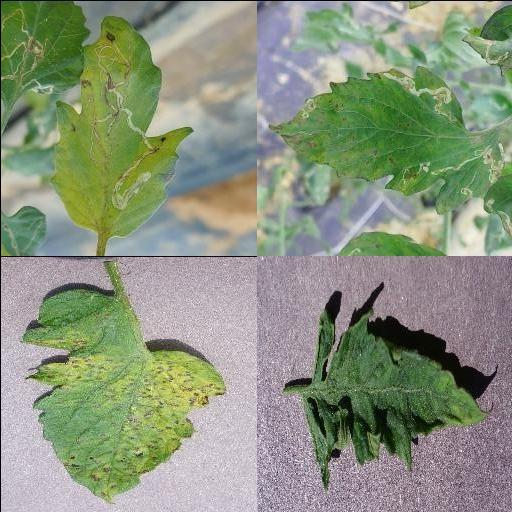Leaf Miner: (266, 65, 505, 215), (48, 15, 194, 237)
Mosaic Virus: (302, 304, 492, 492)
Septoria: (20, 288, 227, 502)
